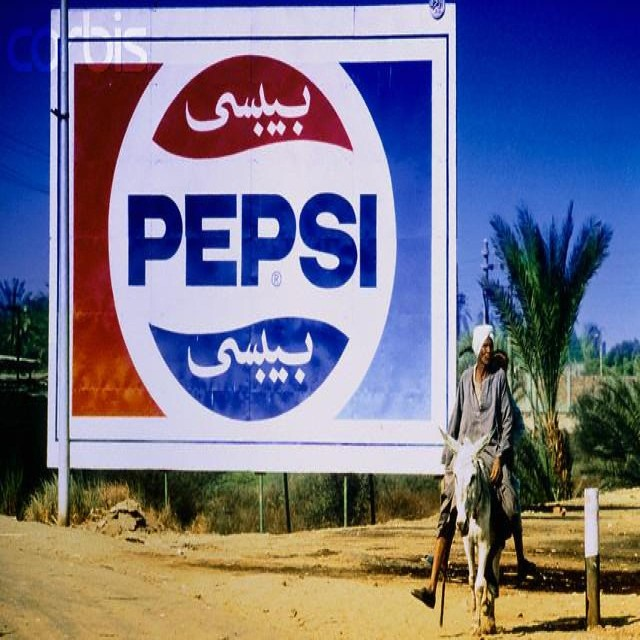pepsi: (121, 44, 384, 429)
